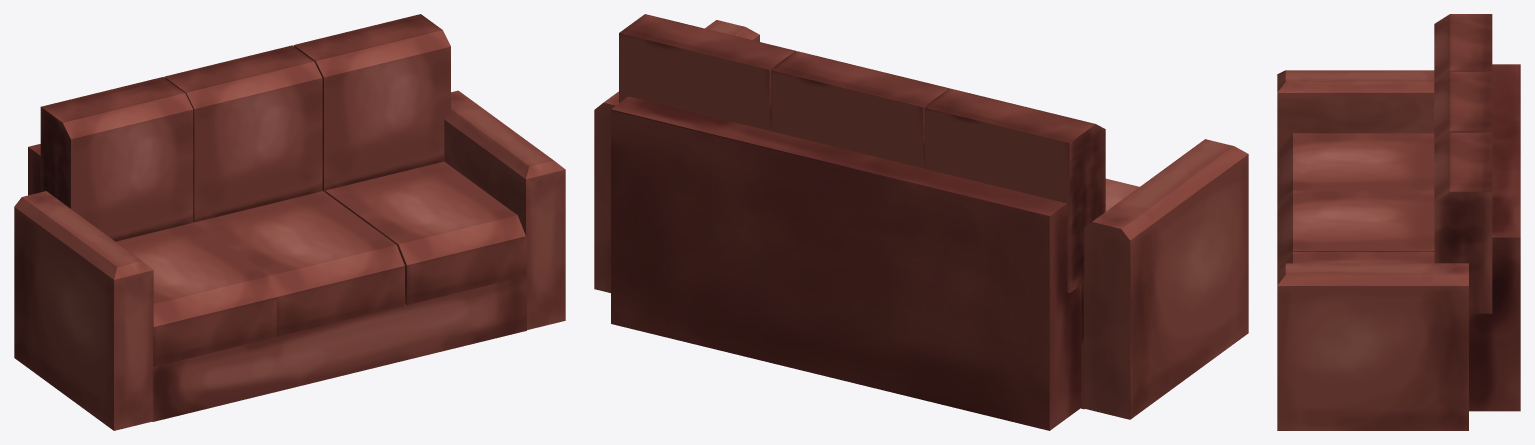
The model's file is sofa.gltf.
3 views of the same model, side by side, from view 1: azimuth 30°, elevation 25°; view 2: azimuth 150°, elevation 25°; view 3: azimuth 270°, elevation 25° (orthographic). The views are drawn at different scales.
Parts seen in each view (by area): view 1: SofaSideRest, SofaBase, SofaCushion7, SofaCushion5, SofaCushion4, SofaCushion2, SofaCushion3, SofaCushion1, SofaBack; view 2: SofaBack, SofaSideRest, SofaCushion7, SofaCushion5, SofaCushion4, SofaCushion1; view 3: SofaSideRest, SofaBack, SofaCushion2, SofaCushion1, SofaCushion4, SofaCushion5, SofaCushion7, SofaCushion3.
Boxes of the visible parts, x1,y1,x2,y2 form: SofaSideRest: (14, 90, 565, 430); SofaBase: (152, 276, 526, 421); SofaCushion7: (40, 77, 193, 241); SofaCushion5: (164, 45, 322, 222); SofaCushion4: (293, 14, 450, 191); SofaCushion2: (197, 191, 404, 336); SofaCushion3: (325, 161, 527, 304); SofaCushion1: (116, 222, 277, 366); SofaBack: (28, 144, 40, 195); SofaBack: (611, 96, 1081, 430); SofaSideRest: (594, 20, 1248, 419); SofaCushion7: (924, 88, 1105, 292); SofaCushion5: (771, 51, 949, 168); SofaCushion4: (619, 14, 796, 130); SofaCushion1: (1081, 178, 1139, 343); SofaSideRest: (1277, 70, 1468, 430); SofaBack: (1469, 64, 1520, 411); SofaCushion2: (1277, 191, 1434, 265); SofaCushion1: (1277, 133, 1434, 205); SofaCushion4: (1434, 132, 1492, 313); SofaCushion5: (1434, 71, 1492, 141); SofaCushion7: (1434, 14, 1492, 81); SofaCushion3: (1277, 251, 1434, 266).
Bounding box in the file's own units: 2.72 × 1.34 × 1.32.
4 materials, 4 textured.
